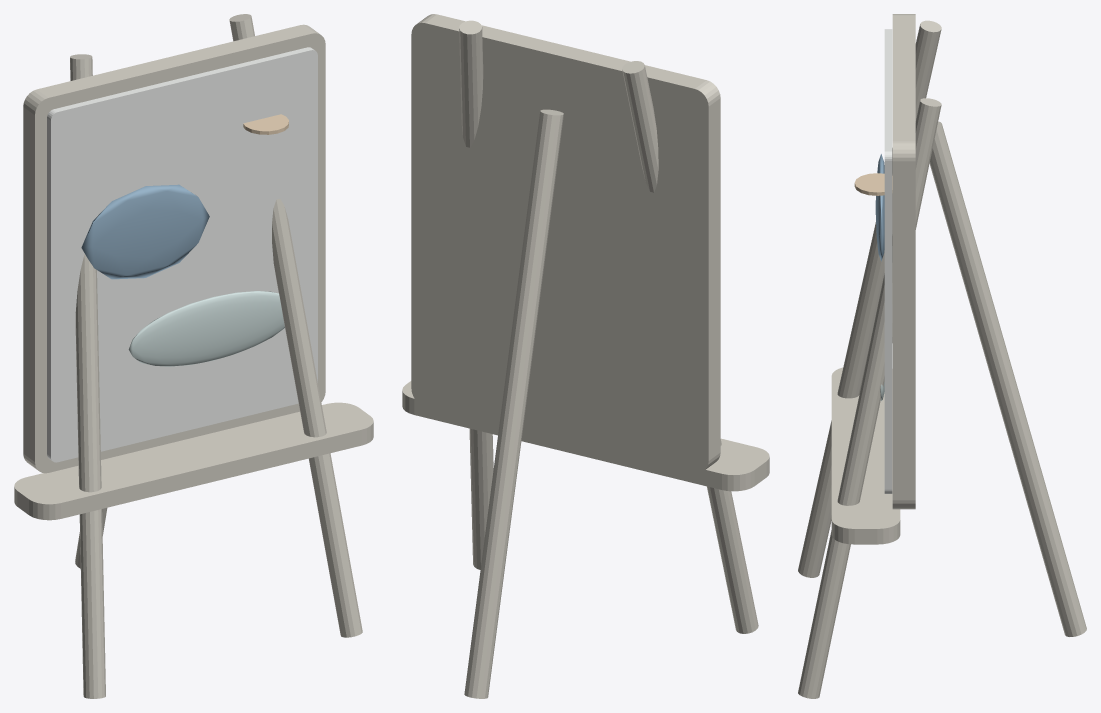
The model's file is school_artist_easel.glb.
3 views of the same model, side by side, from view 1: azimuth 30°, elevation 25°; view 2: azimuth 150°, elevation 25°; view 3: azimuth 270°, elevation 25° (orthographic). The views are drawn at different scales.
Visible parts, largest first — view 1: decor_d8dcd8_matte, decor_aaa493_matte, decor_476a8a_matte, decor_9bb7b5_matte, decor_c6a176_matte; view 2: decor_aaa493_matte; view 3: decor_aaa493_matte, decor_d8dcd8_matte, decor_476a8a_matte, decor_c6a176_matte.
Part boxes in pixels (bbox=[...]): decor_d8dcd8_matte: bbox=[47, 47, 317, 462]; decor_aaa493_matte: bbox=[14, 14, 373, 698]; decor_476a8a_matte: bbox=[81, 184, 209, 279]; decor_9bb7b5_matte: bbox=[128, 291, 284, 366]; decor_c6a176_matte: bbox=[243, 114, 288, 134]; decor_aaa493_matte: bbox=[402, 14, 769, 698]; decor_aaa493_matte: bbox=[798, 14, 1086, 698]; decor_d8dcd8_matte: bbox=[884, 29, 892, 493]; decor_476a8a_matte: bbox=[875, 154, 884, 261]; decor_c6a176_matte: bbox=[854, 173, 892, 195].
Size of the model in its own units: 1.01 by 1.66 by 0.7568.
